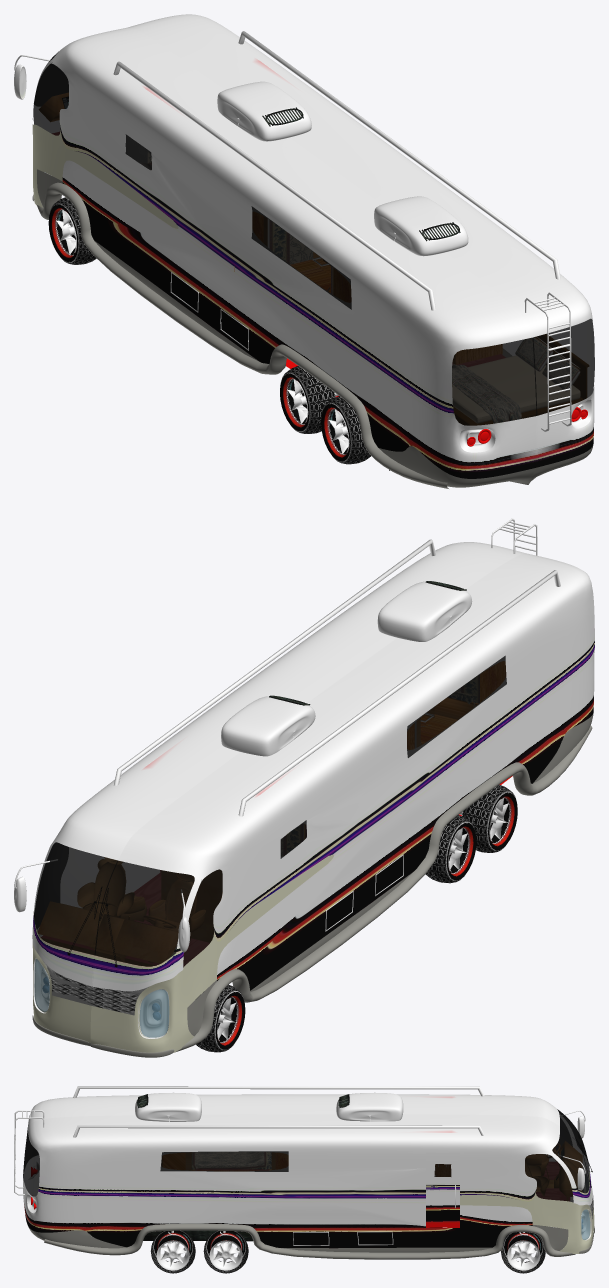
The model's file is rv-motorhome.glb.
3 renders of one model, top to bottom at view 1: azimuth 30°, elevation 25°; view 2: azimuth 150°, elevation 25°; view 3: azimuth 270°, elevation 25°, orthographic. The views are drawn at different scales.
Visible parts, largest first — view 1: default_RV_truck_RV_truck, default_RV_truck, default_side_fenders, bed, default_AC, metal parts, tires, default_metal_front, interiors1, door left, default_brakes, default_grid (+1 smaller); view 2: default_RV_truck_RV_truck, default_RV_truck, interiors1, default_metal_front, default_side_fenders, default_AC, metal parts, tires, default_front_hood, default_Headlights_cover, default_headlights, twin beds2 (+2 smaller); view 3: default_RV_truck_RV_truck, default_RV_truck, default_side_fenders, metal parts, default_AC, default_metal_front, rv bus door, tires, interiors1, bed spread2twins, door right, inner fender covers (+5 smaller).
Part boxes in pixels (x1,y1,x2,y2): default_RV_truck_RV_truck: (14, 14, 594, 478); default_RV_truck: (33, 51, 594, 425); default_side_fenders: (37, 169, 593, 488); bed: (452, 334, 588, 424); default_AC: (217, 81, 468, 256); metal parts: (56, 31, 571, 453); tires: (48, 197, 370, 464); default_metal_front: (32, 124, 178, 228); interiors1: (39, 93, 504, 366); door left: (171, 275, 247, 348); default_brakes: (459, 399, 591, 452); default_grid: (262, 107, 460, 241); default_RV_truck_RV_truck: (14, 542, 594, 991); default_RV_truck: (33, 655, 506, 967); interiors1: (38, 675, 479, 965); default_metal_front: (32, 854, 333, 1052); default_side_fenders: (175, 714, 593, 1052); default_AC: (221, 581, 472, 756); metal parts: (114, 518, 560, 1040); tires: (195, 784, 517, 1052); default_front_hood: (46, 964, 149, 1015); default_Headlights_cover: (34, 959, 169, 1037); default_headlights: (33, 958, 169, 1038); twin beds2: (421, 698, 477, 744); default_RV_truck_RV_truck: (23, 1094, 593, 1248); default_RV_truck: (23, 1109, 589, 1202); default_side_fenders: (28, 1223, 575, 1259); metal parts: (14, 1086, 540, 1270); default_AC: (135, 1092, 403, 1121); default_metal_front: (460, 1193, 594, 1253); rv bus door: (426, 1152, 459, 1227); tires: (150, 1230, 545, 1273); interiors1: (186, 1141, 581, 1200); bed spread2twins: (192, 1152, 270, 1169); door right: (293, 1232, 392, 1245); inner fender covers: (143, 1230, 506, 1241).
Bounding box in the file's own units: 155 × 199 × 697.
75 materials, 31 textured.
